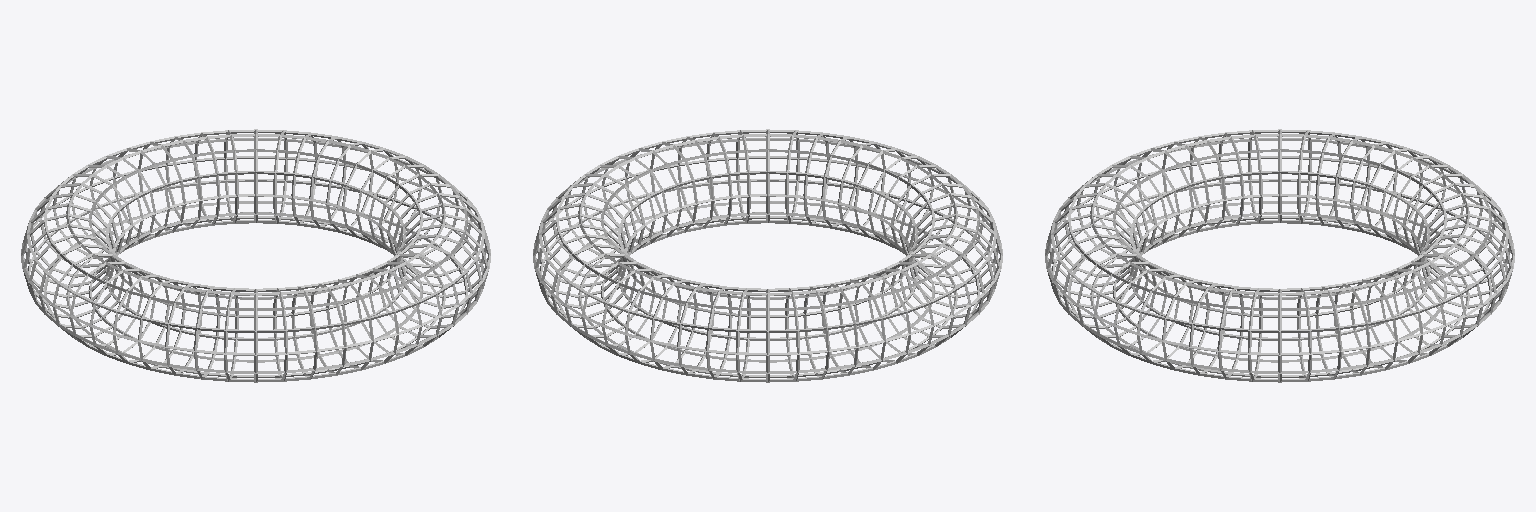
The model's file is TorusWireframe.obj.
The picture shows the model from 3 angles: view 1: azimuth 30°, elevation 25°; view 2: azimuth 150°, elevation 25°; view 3: azimuth 270°, elevation 25°; orthographic projection.
Visible parts, largest first — view 1: Torus.001; view 2: Torus.001; view 3: Torus.001.
Boxes of the visible parts, <box> form: Torus.001: <box>21,129,490,382</box>; Torus.001: <box>533,129,1002,382</box>; Torus.001: <box>1045,129,1514,382</box>.
Size of the model in its own units: 200 by 40 by 200.